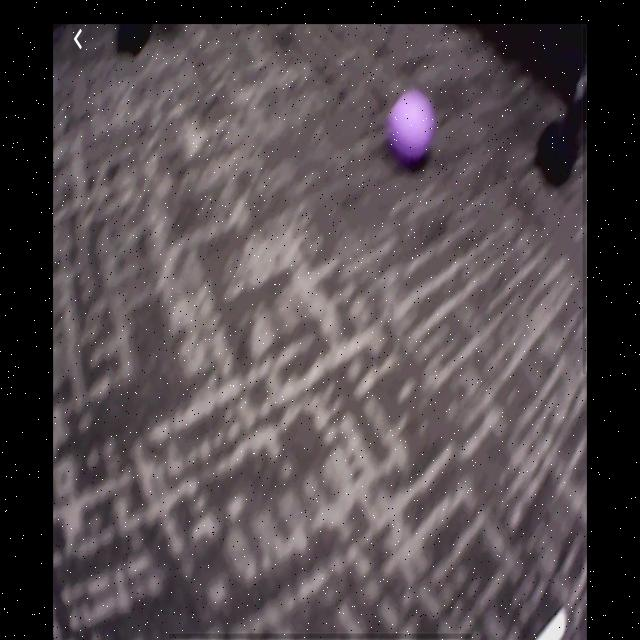ball: (389, 85, 436, 165)
